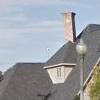Chimney: (56, 5, 84, 43)
